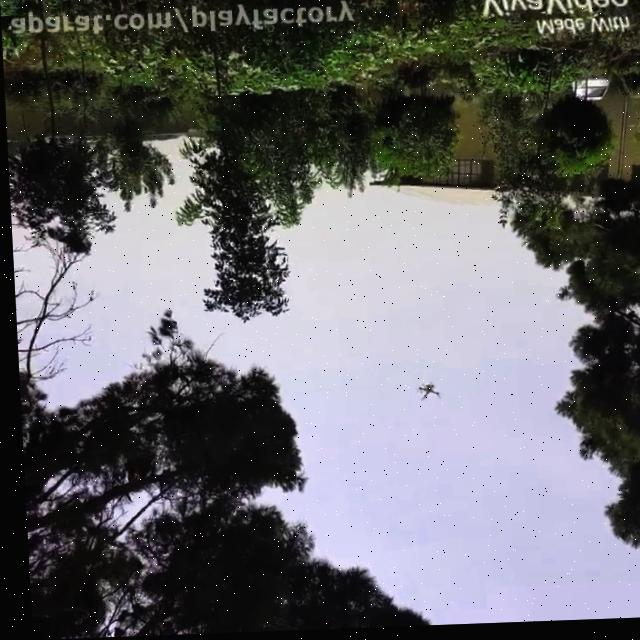drone: (407, 384, 442, 408)
